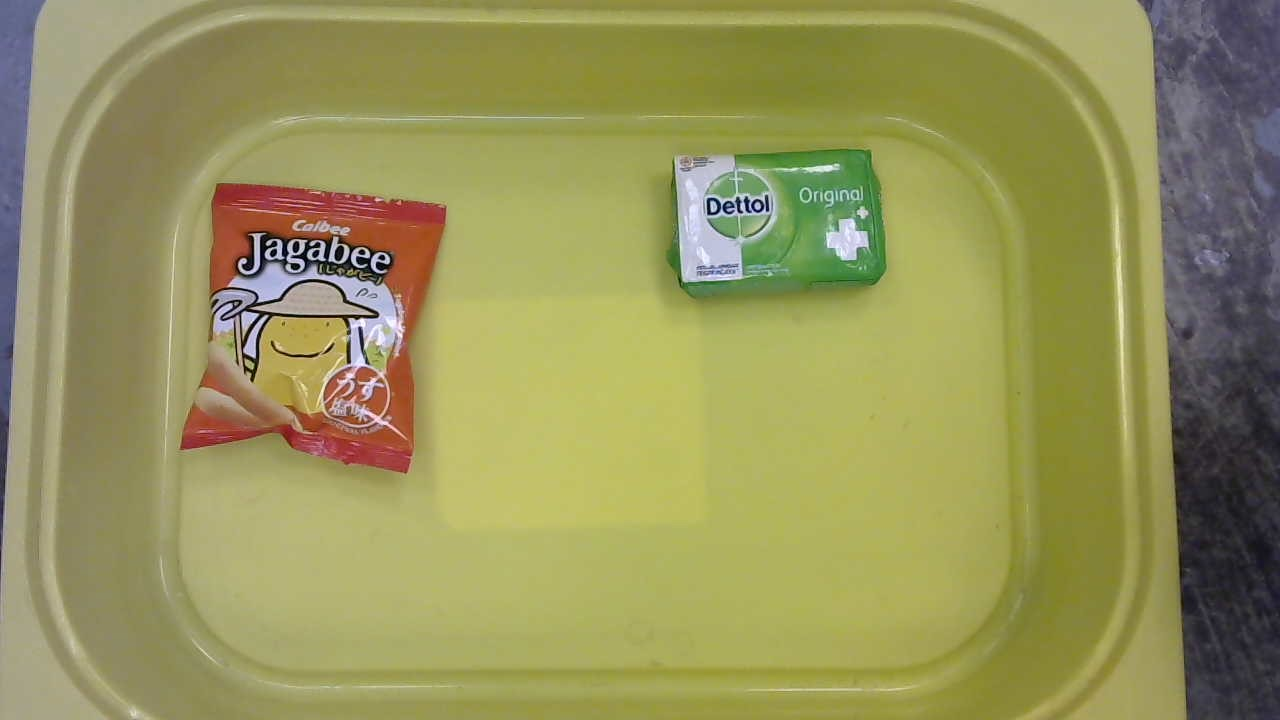Dettol: (663, 146, 892, 302)
JagabeeFarmer: (173, 180, 454, 485)
